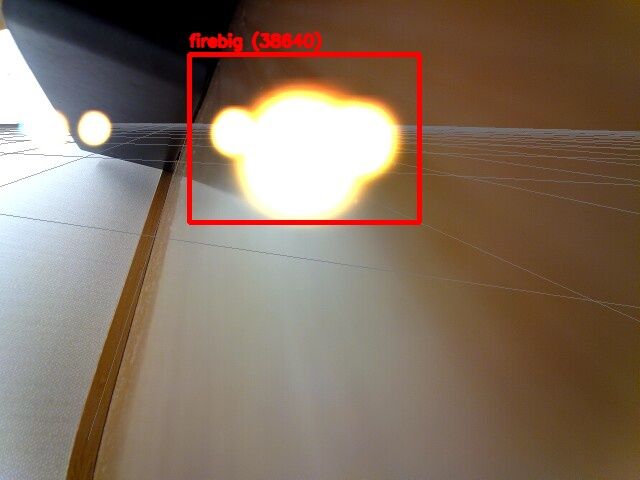firebig: (189, 54, 419, 222)
